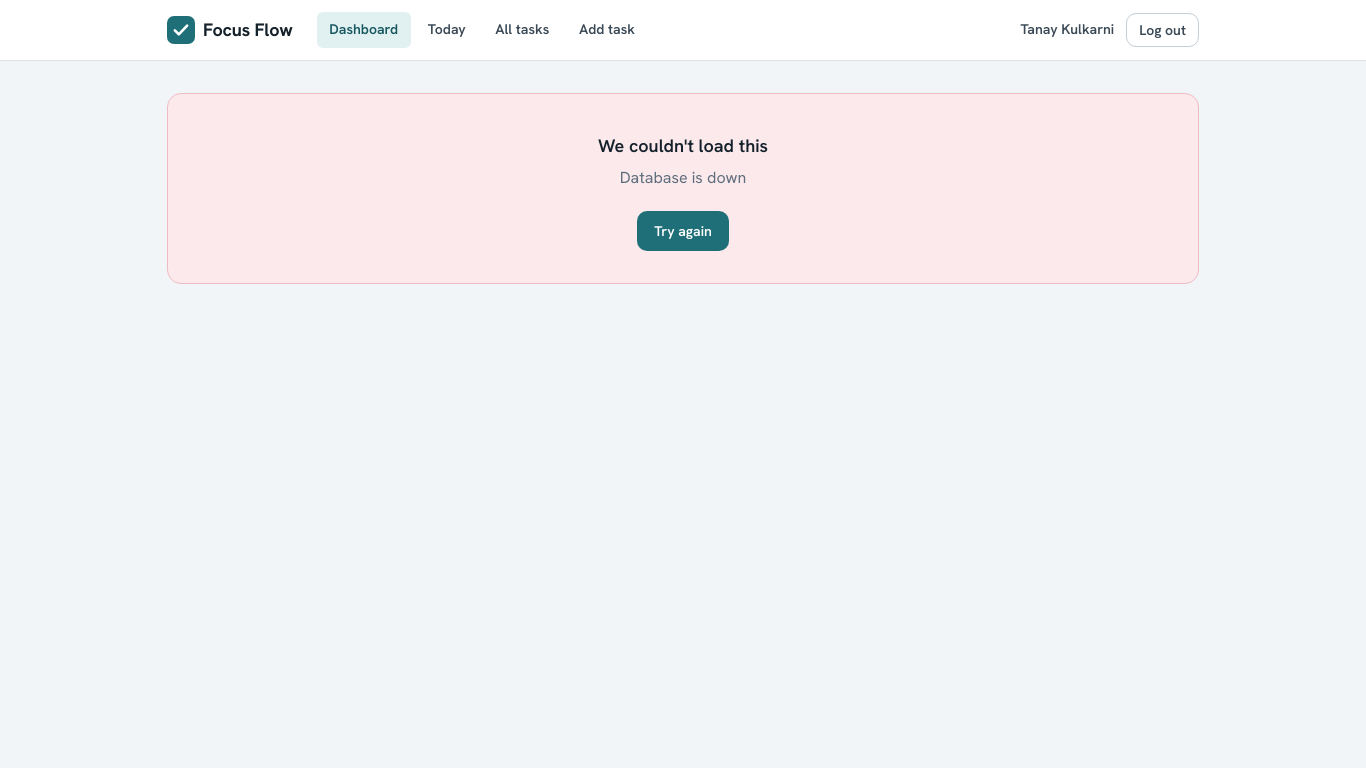
Test: dashboard › shows a loading state, then an error with retry when the API fails
This screenshot has width=1366, height=768.
Check: the text "Database is down" is shown, box 620,166 -> 746,191
Click the button "Try again": (683, 231) 637,211 -> 729,251
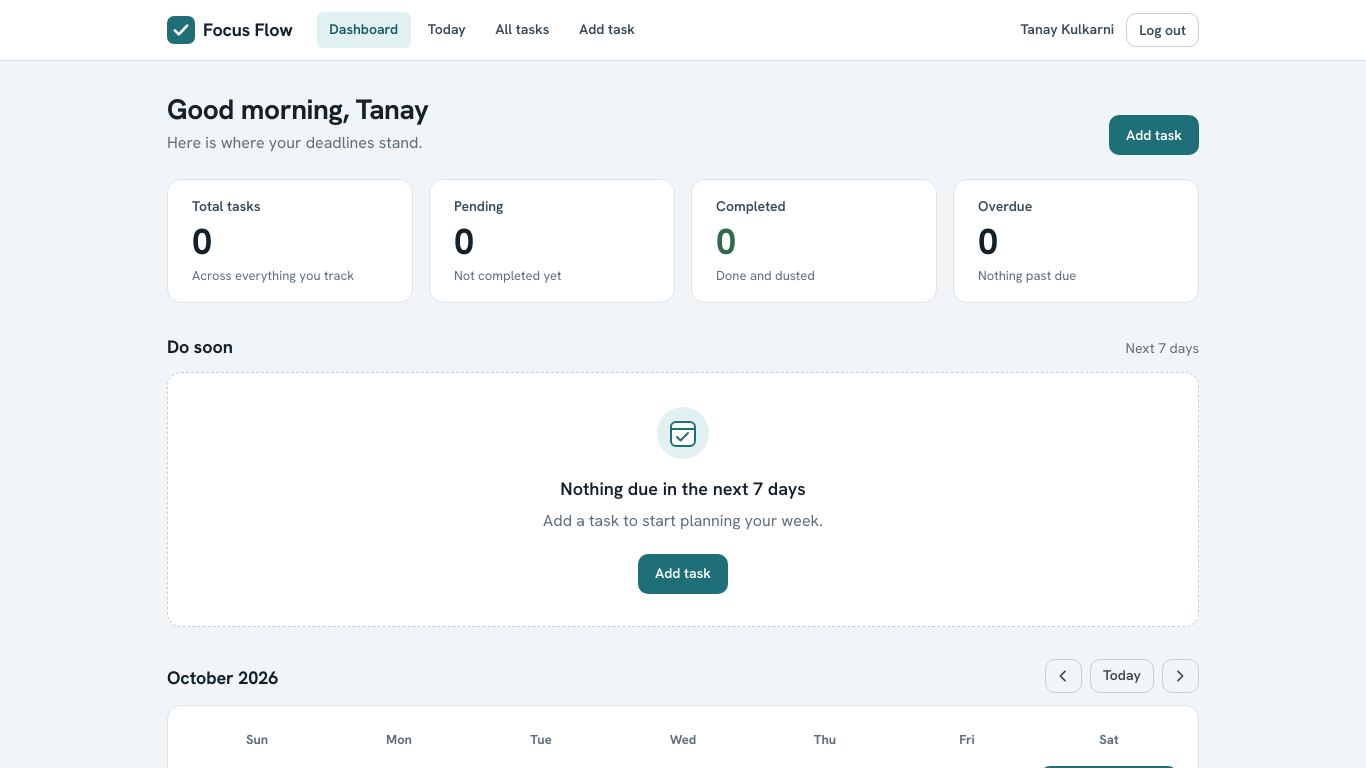
Check: the element named "Task summary" is shown, box 167,179 -> 1199,303
